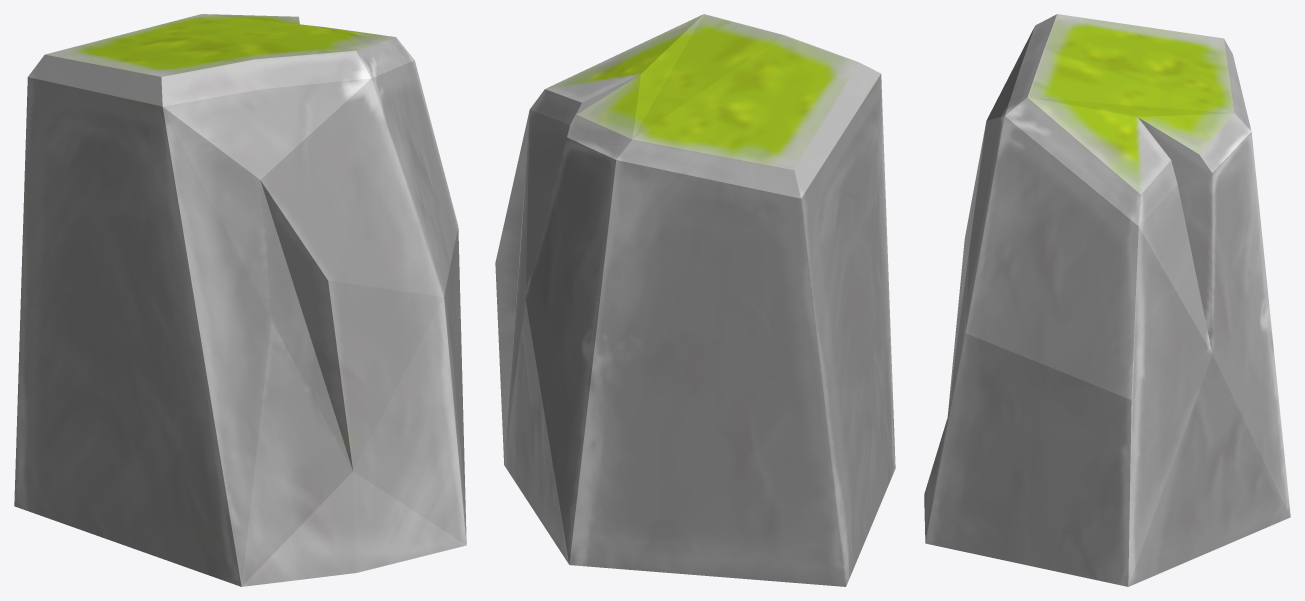
Rendered from landblocks3.fbx.
3 views of the same model, side by side, from view 1: azimuth 30°, elevation 25°; view 2: azimuth 150°, elevation 25°; view 3: azimuth 270°, elevation 25° (orthographic). The views are drawn at different scales.
Visible parts, largest first — view 1: landblocks3; view 2: landblocks3; view 3: landblocks3.
Part boxes in pixels (<box>): landblocks3: <box>14,14,466,586</box>; landblocks3: <box>495,14,895,586</box>; landblocks3: <box>924,14,1290,586</box>.
Bounding box in the file's own units: 337 × 376 × 292.
